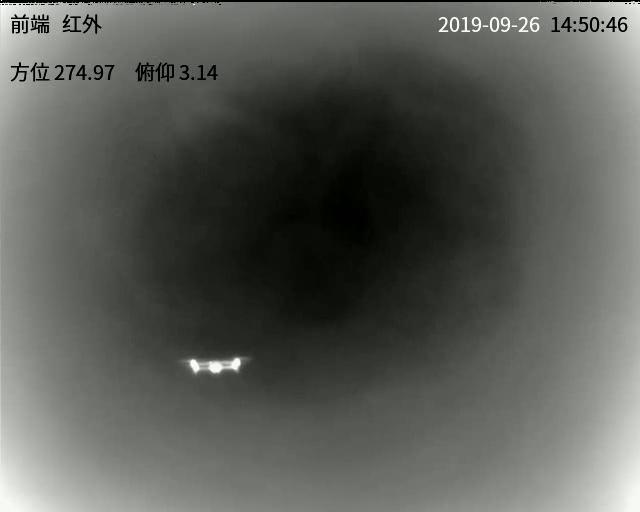DRONE: (185, 357, 243, 373)
